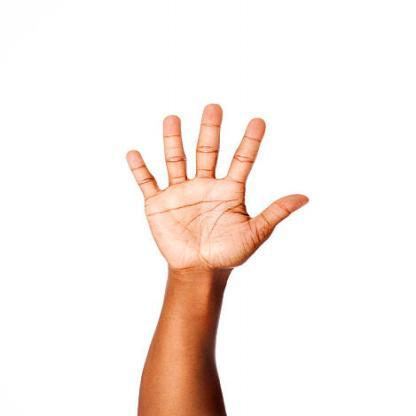stop: (120, 99, 312, 280)
